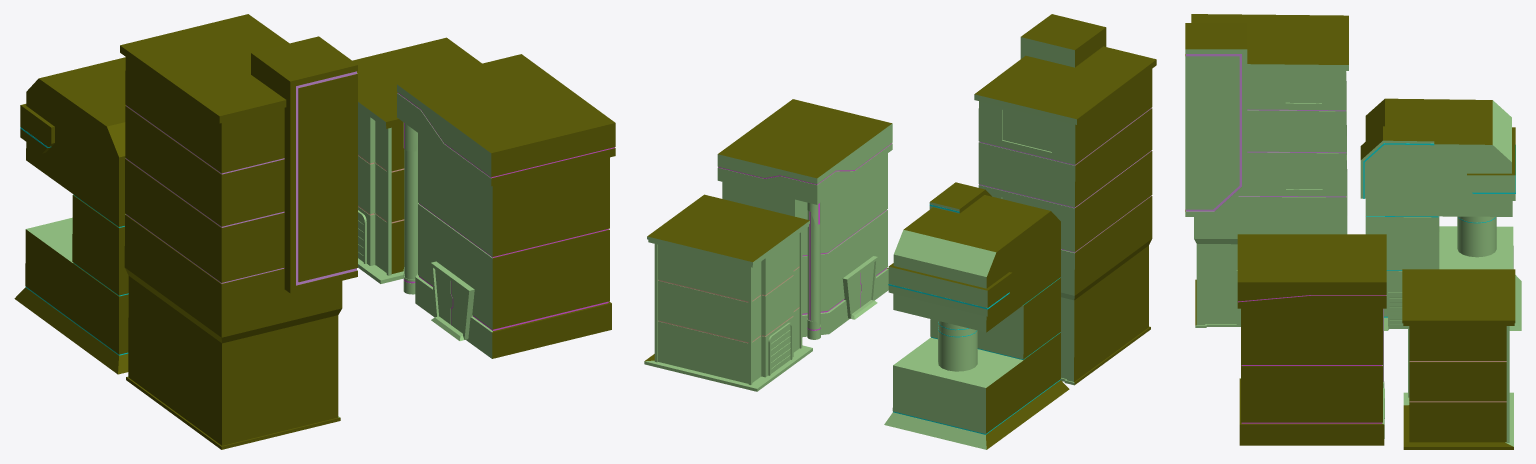
The model's file is Buildings.fbx.
3 views of the same model, side by side, from view 1: azimuth 30°, elevation 25°; view 2: azimuth 150°, elevation 25°; view 3: azimuth 270°, elevation 25° (orthographic). The views are drawn at different scales.
Parts seen in each view (by area): view 1: Building4, Building3, Building2, Building1; view 2: Building4, Building2, Building1, Building3; view 3: Building4, Building3, Building2, Building1.
Part boxes in pixels (x1=…): Building4: x1=120, y1=14, x2=357, y2=449; Building3: x1=397, y1=54, x2=615, y2=358; Building2: x1=14, y1=57, x2=128, y2=374; Building1: x1=352, y1=37, x2=481, y2=283; Building4: x1=974, y1=14, x2=1156, y2=385; Building2: x1=884, y1=182, x2=1069, y2=449; Building1: x1=644, y1=194, x2=812, y2=391; Building3: x1=717, y1=99, x2=892, y2=339; Building4: x1=1185, y1=14, x2=1348, y2=327; Building3: x1=1237, y1=234, x2=1386, y2=445; Building2: x1=1360, y1=98, x2=1521, y2=330; Building1: x1=1402, y1=269, x2=1515, y2=449.
Size of the model in its own units: 2712 by 2138 by 2288.
